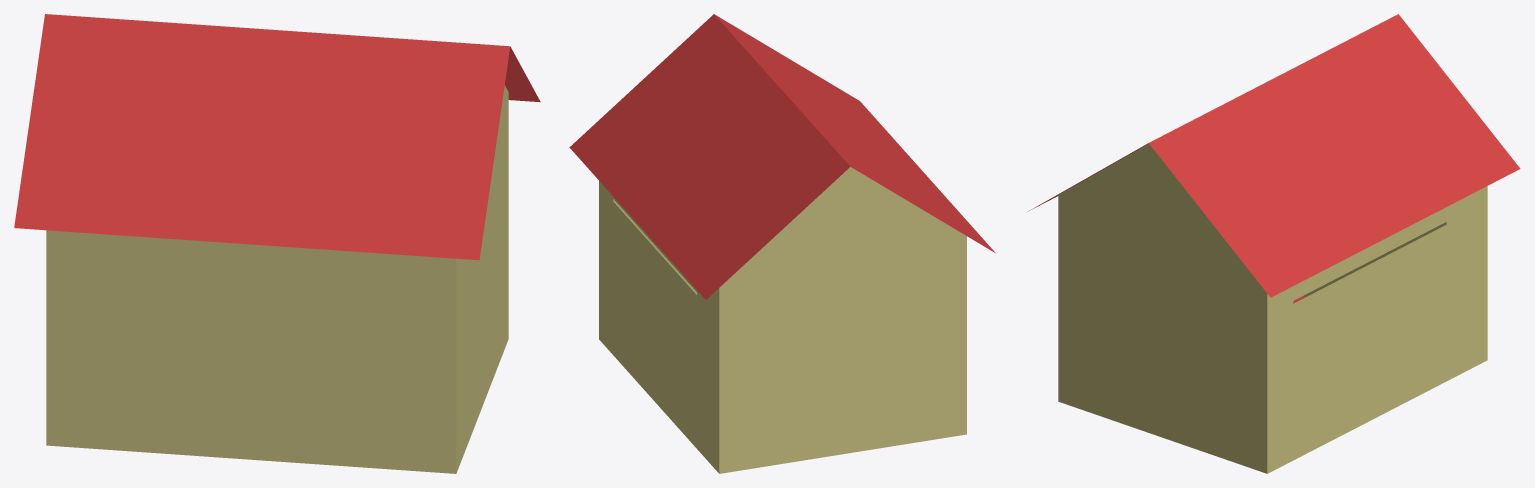
3 renders of one model, left to right at view 1: azimuth 30°, elevation 25°; view 2: azimuth 150°, elevation 25°; view 3: azimuth 270°, elevation 25°, orthographic. The views are drawn at different scales.
Bounding box in the file's own units: 16.15 × 15.8 × 10.66.
